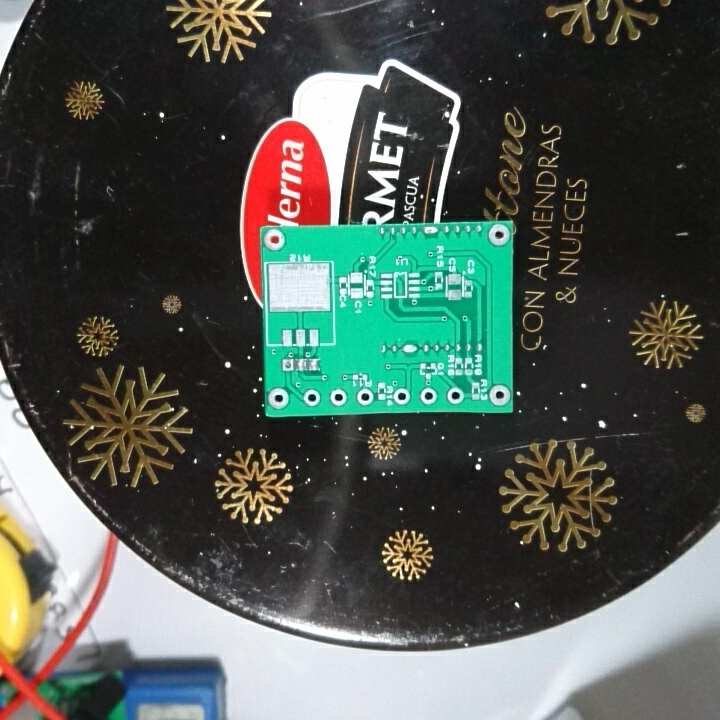F: (261, 226, 290, 255), (487, 380, 512, 409), (487, 223, 511, 249), (265, 386, 291, 410), (301, 386, 323, 409), (328, 386, 350, 408), (353, 386, 376, 407), (444, 385, 466, 406), (390, 386, 413, 406), (417, 386, 441, 403), (278, 356, 295, 374)
P: (421, 223, 440, 243), (399, 341, 420, 357)
